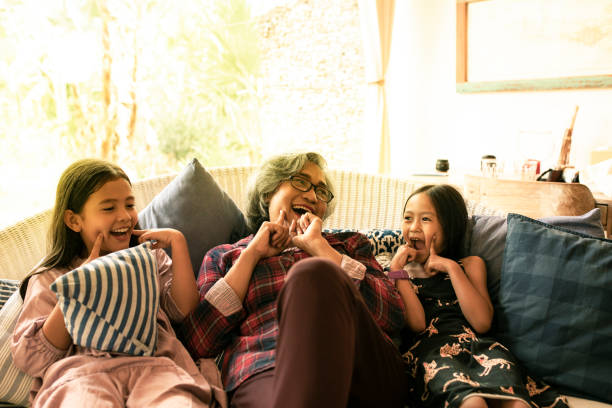without mask: (390, 184, 455, 265), (267, 155, 332, 236), (77, 176, 142, 257)
